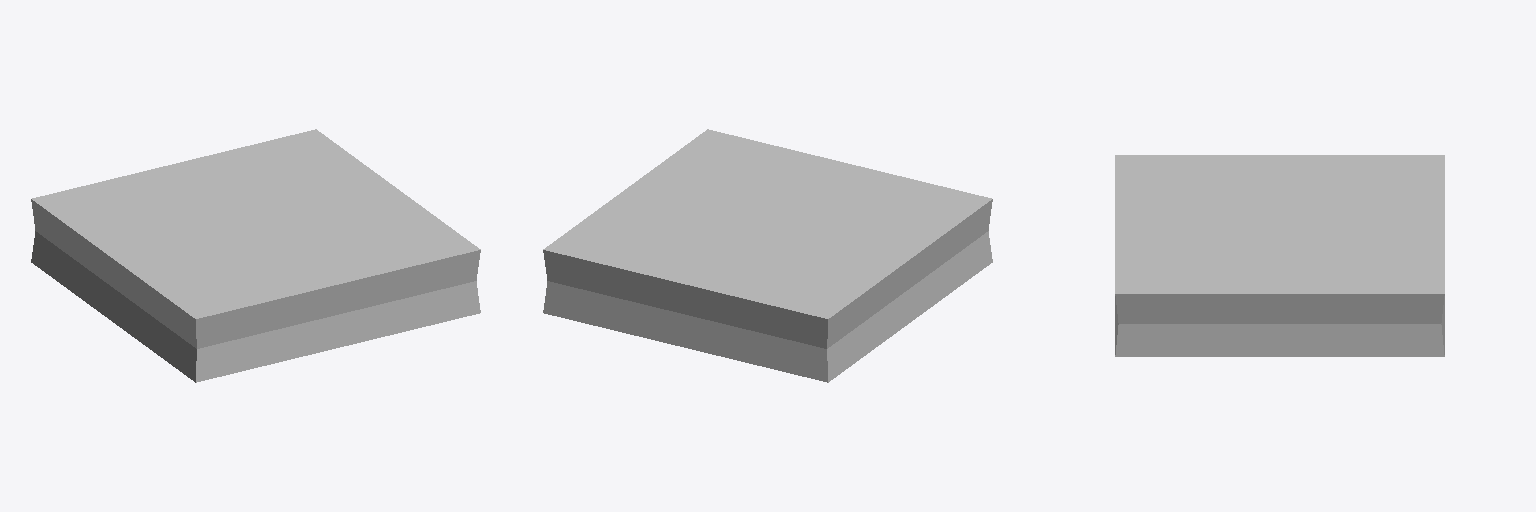
The model's file is roof-flat-detail-c.obj.
3 renders of one model, left to right at view 1: azimuth 30°, elevation 25°; view 2: azimuth 150°, elevation 25°; view 3: azimuth 270°, elevation 25°, orthographic.
Parts seen in each view (by area): view 1: roof-flat-detail-c; view 2: roof-flat-detail-c; view 3: roof-flat-detail-c.
Boxes of the visible parts, <box> form: roof-flat-detail-c: <box>31,129,480,382</box>; roof-flat-detail-c: <box>543,129,992,382</box>; roof-flat-detail-c: <box>1115,155,1444,356</box>.
Bounding box in the file's own units: 1 × 0.2125 × 1.